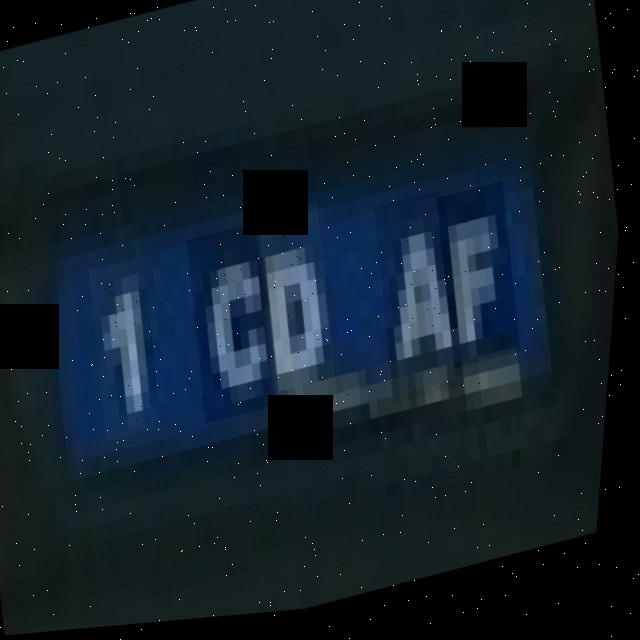1: (83, 258, 171, 446)
A: (366, 196, 482, 415)
C: (180, 224, 295, 430)
D: (247, 204, 354, 416)
F: (430, 188, 536, 379)
